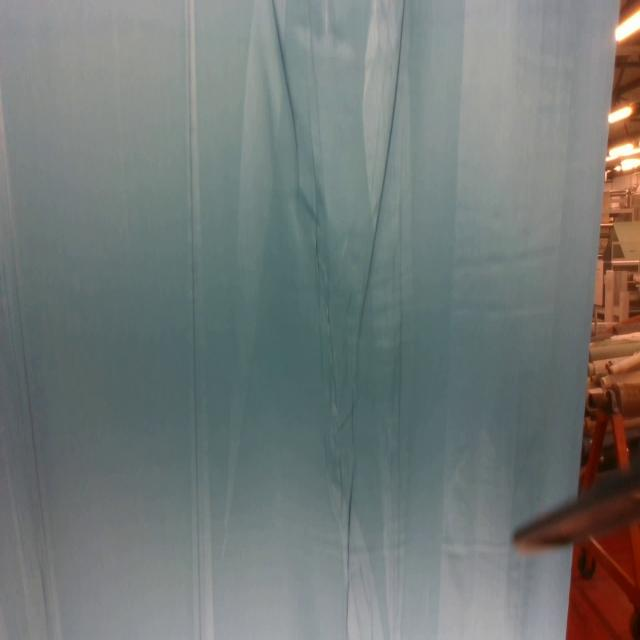crease: (0, 97, 50, 640), (354, 0, 408, 357), (183, 0, 210, 640), (271, 1, 304, 196), (344, 458, 358, 640)
